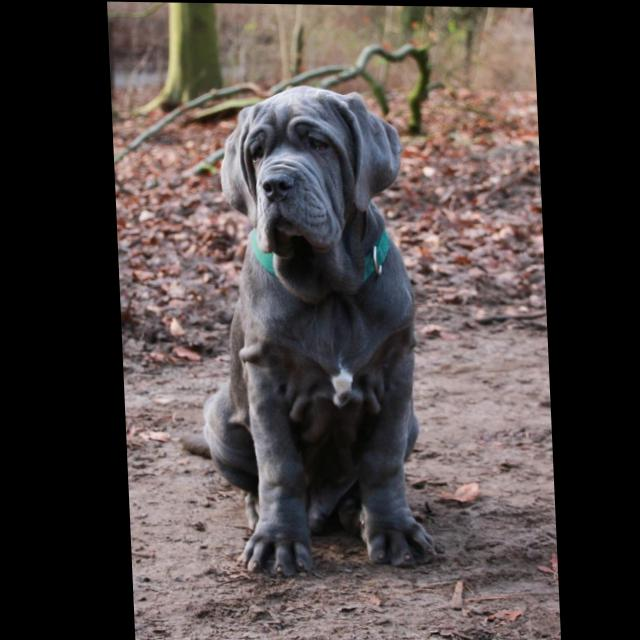mastino_napoletano: (166, 82, 435, 579)
